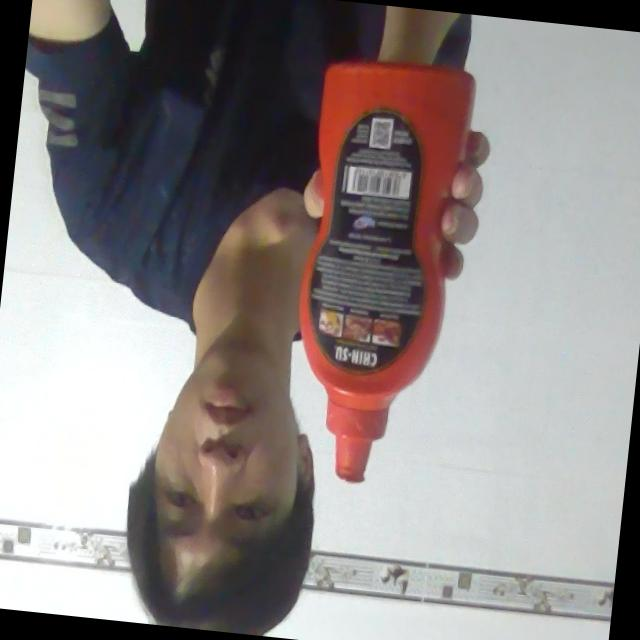tuong ot chinsu: (258, 45, 490, 506)
